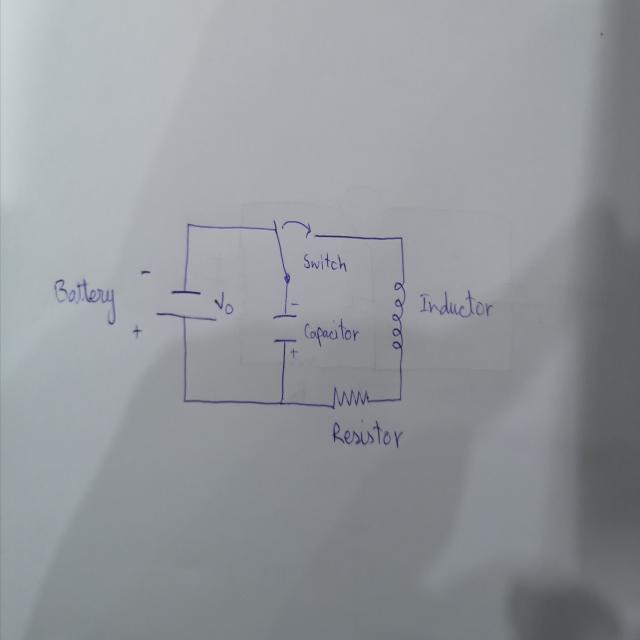capacitor: (270, 300, 300, 362)
inductor: (391, 277, 406, 353)
junction: (396, 232, 406, 244), (184, 218, 192, 232), (277, 395, 285, 408), (396, 392, 404, 404), (182, 394, 188, 406)
resistor: (330, 383, 369, 410)
source: (154, 287, 218, 324)
switch: (270, 210, 317, 285)
text: (51, 275, 117, 325), (417, 287, 495, 319), (330, 416, 404, 449), (302, 318, 359, 348), (302, 250, 348, 273), (214, 290, 234, 315)
